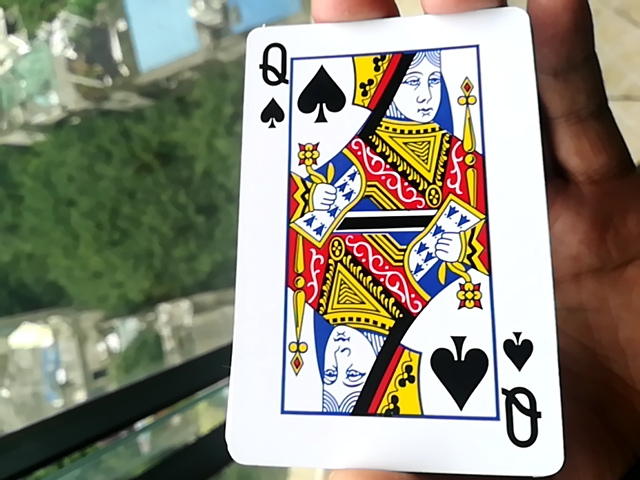ht q: (219, 15, 566, 480)
